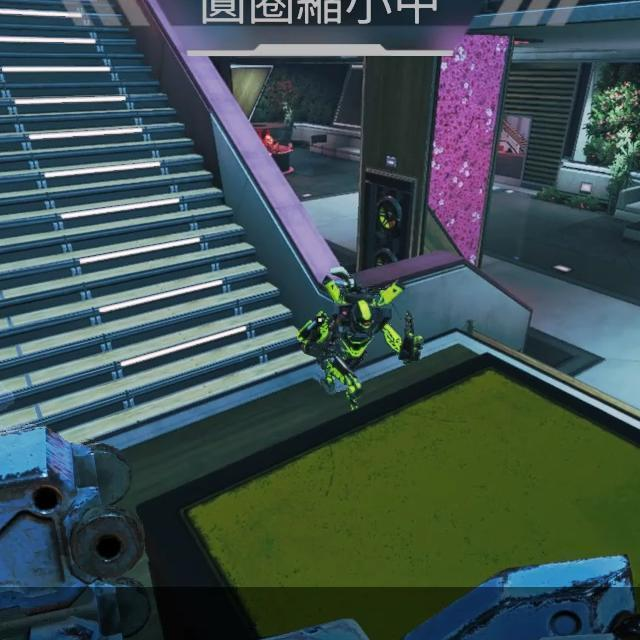avatar: (294, 273, 425, 413)
